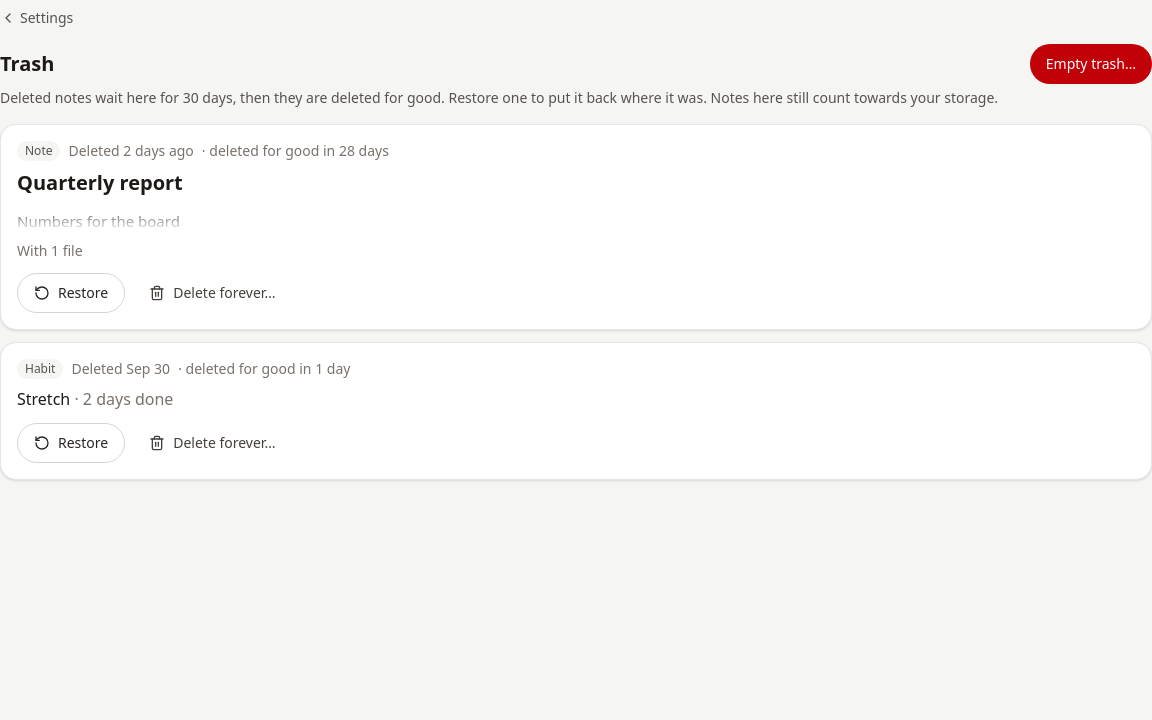
Test case: Trash › empties the trash after asking
This screenshot has width=1152, height=720.
Click the button "Empty trash…": click(1091, 64) [1030,44,1151,84]
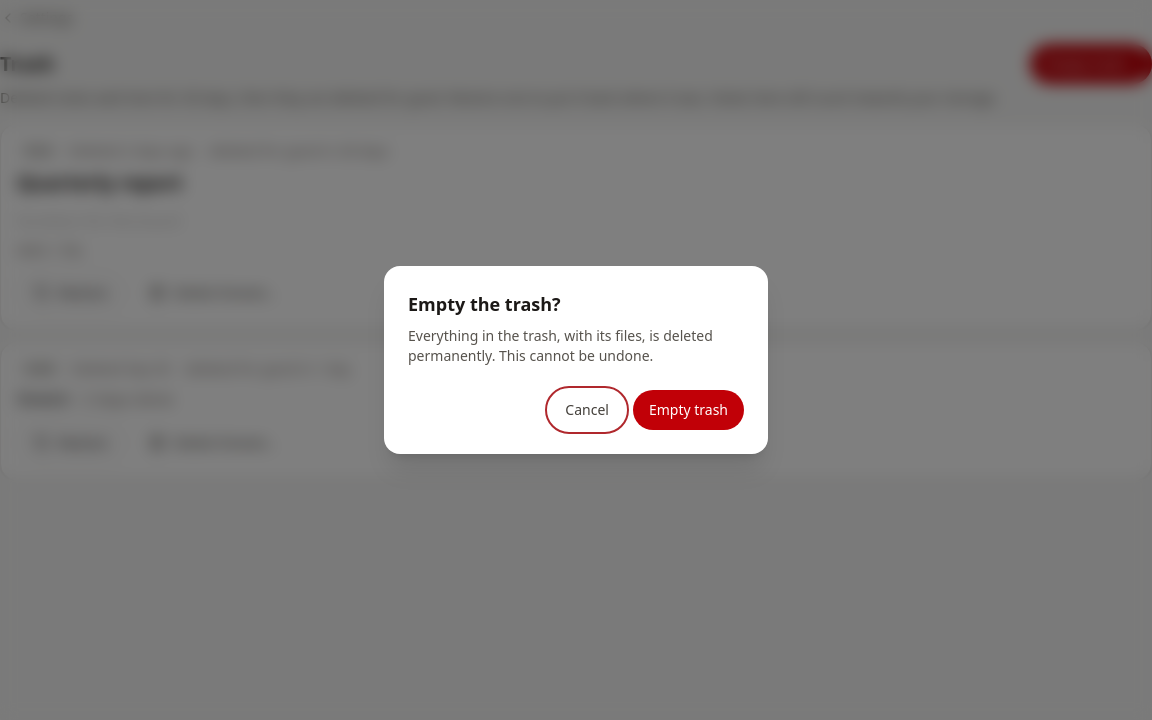
Click the button "Empty trash": click(688, 410) [633,390,744,430]
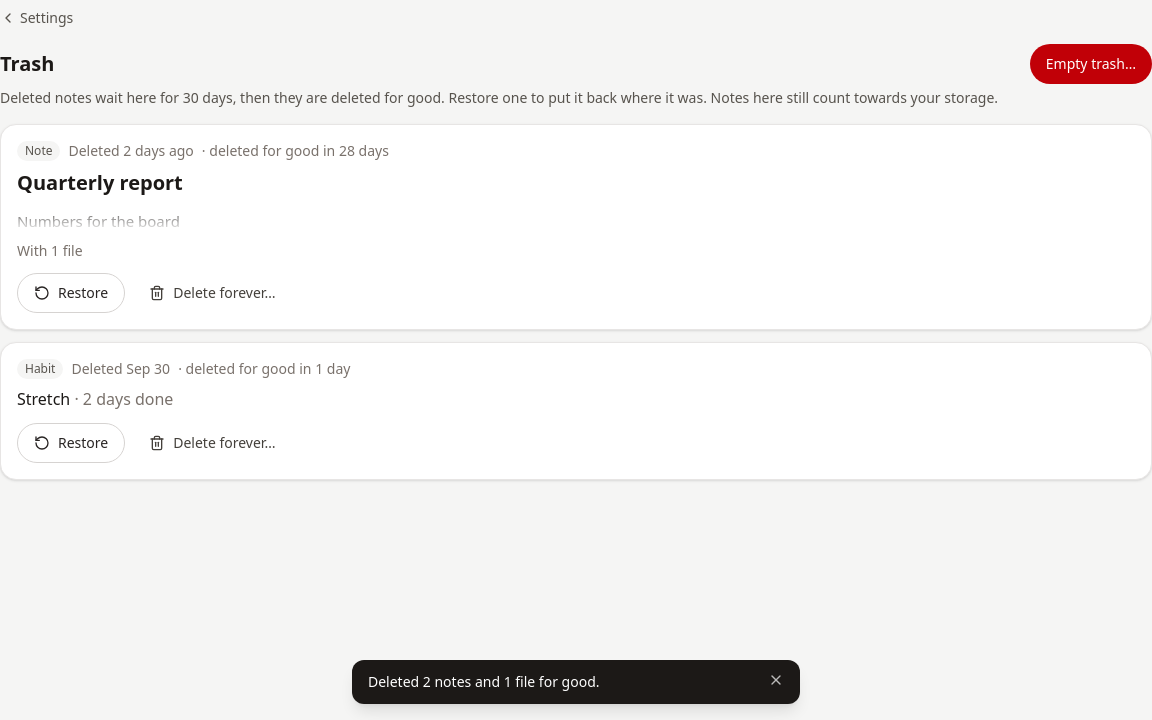
Now the text "Deleted 2 notes and 1 file for good." is shown, box [368,672,600,691]
